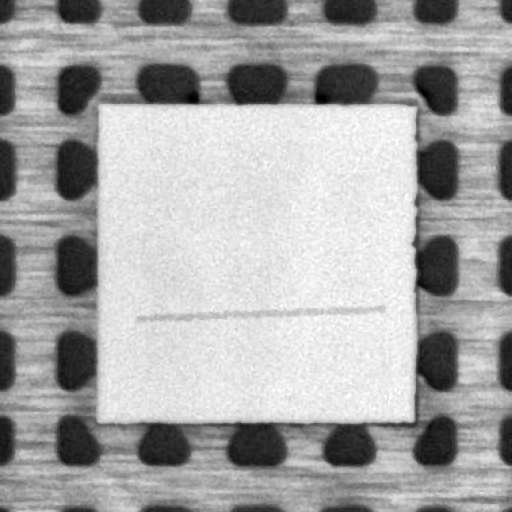DIE_CRACK: (133, 297, 386, 324)
